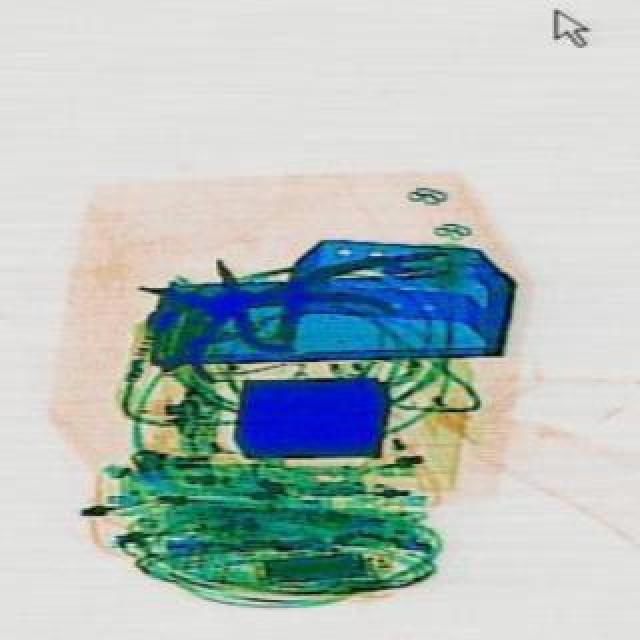wrench: (112, 178, 392, 434)
